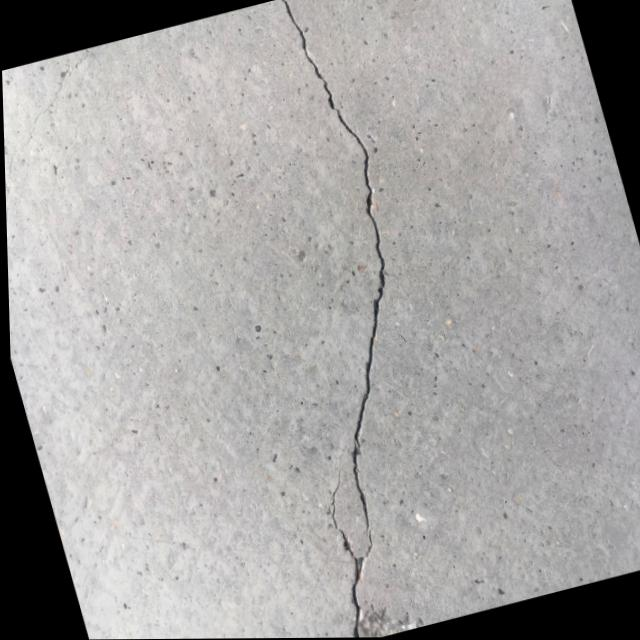Crack: (283, 395, 425, 638), (304, 173, 436, 395), (277, 0, 379, 185)
